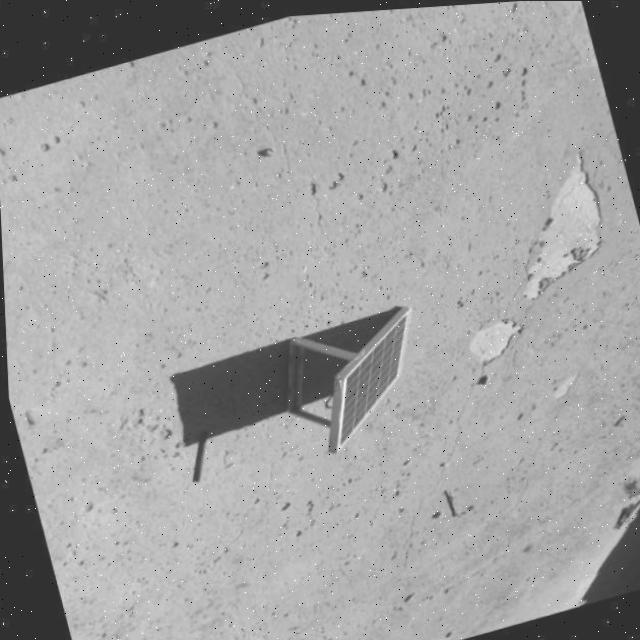Normal Solar Panel: (304, 302, 439, 448)
